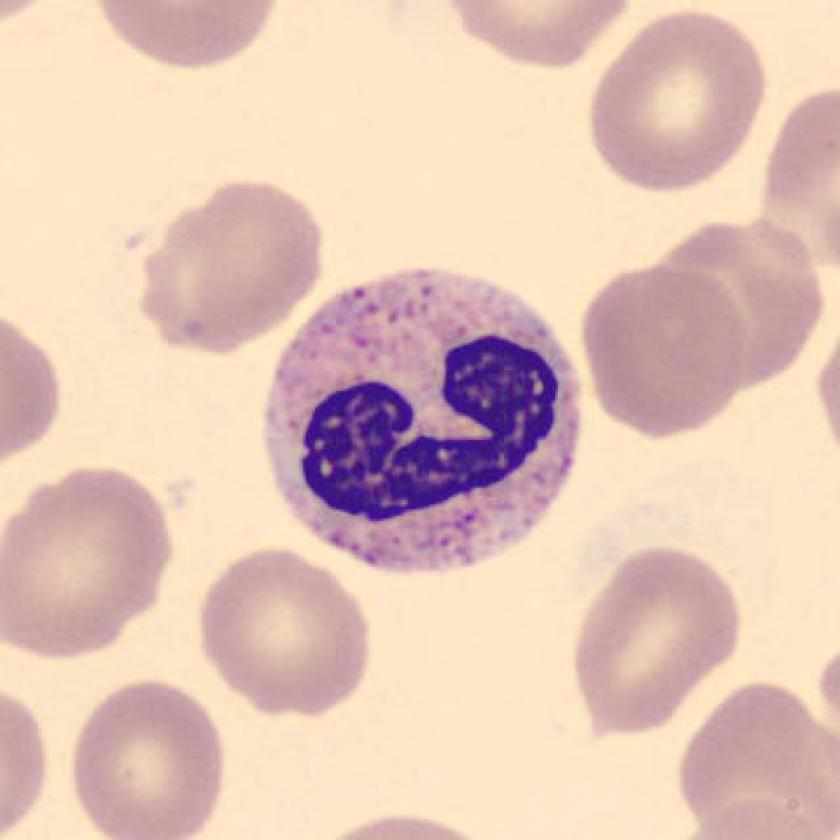neutrophil: (264, 272, 577, 575)
